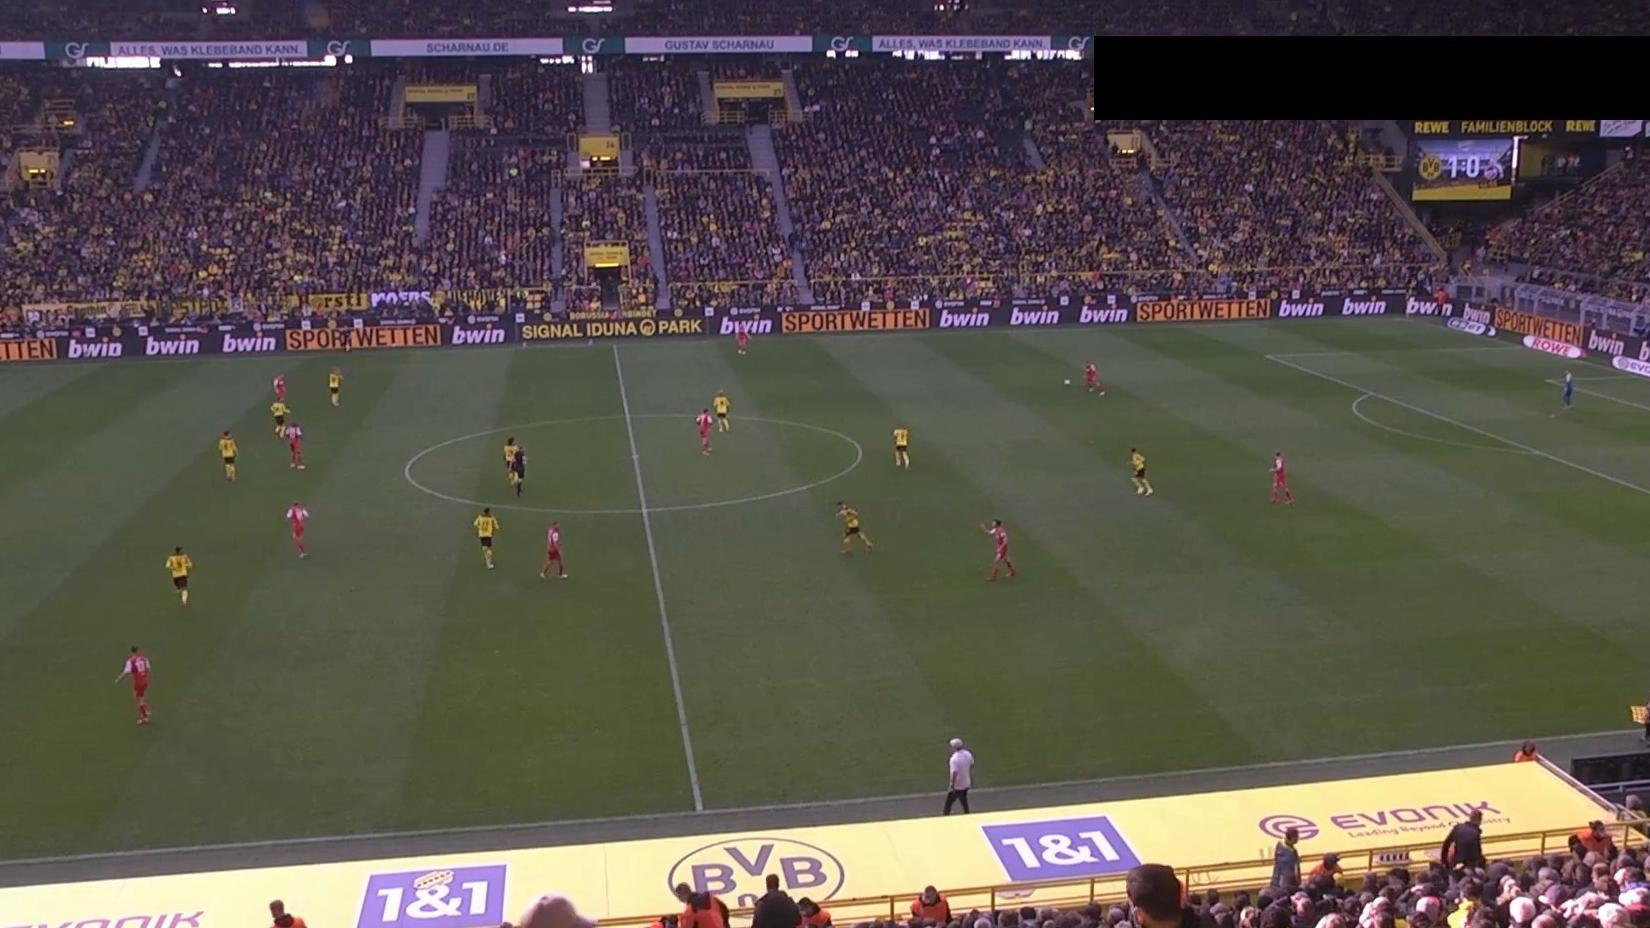ball: (1062, 377, 1071, 388)
